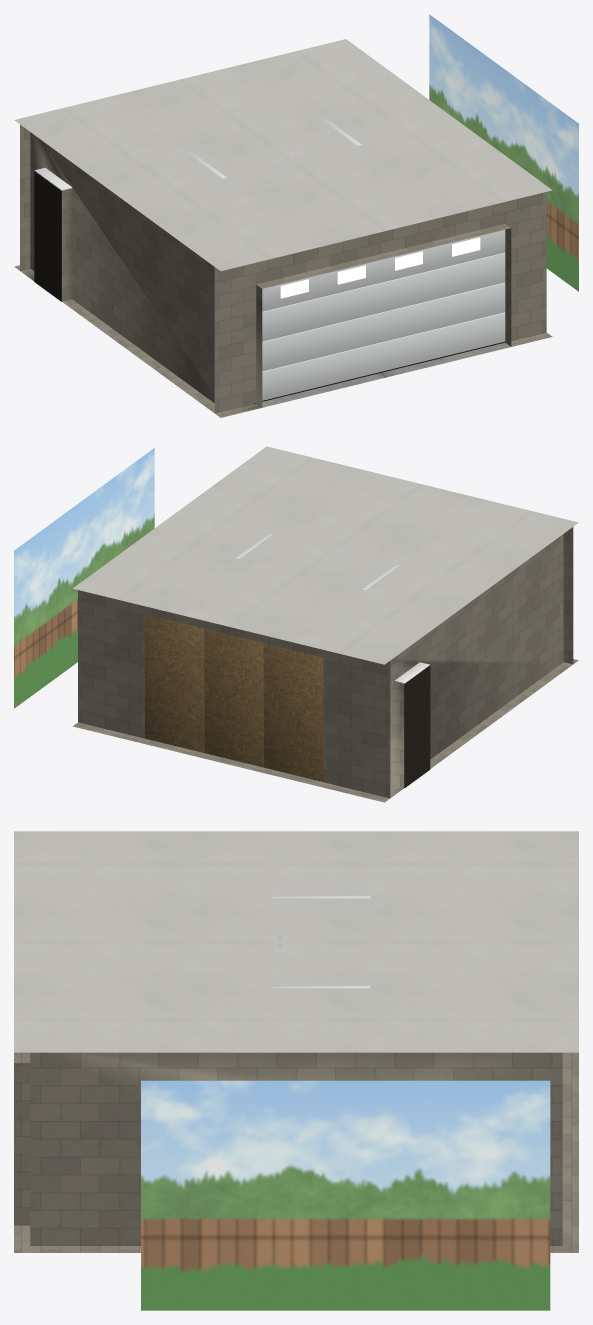
Rendered from garage.glb.
3 renders of one model, top to bottom at view 1: azimuth 30°, elevation 25°; view 2: azimuth 150°, elevation 25°; view 3: azimuth 270°, elevation 25°, orthographic. The views are drawn at different scales.
Parts seen in each view (by area): view 1: Ceiling, Walls, GarageDoor, OutsideView, HouseDoorFrame, Floor; view 2: Ceiling, Walls, OSBWall, OutsideView, HouseDoorFrame; view 3: Ceiling, OutsideView, Walls.
Part boxes in pixels (x1=…): Ceiling: x1=14, y1=39, x2=552, y2=271; Walls: x1=14, y1=124, x2=552, y2=417; GarageDoor: x1=253, y1=157, x2=505, y2=403; OutsideView: x1=429, y1=14, x2=578, y2=291; HouseDoorFrame: x1=34, y1=167, x2=72, y2=301; Floor: x1=262, y1=342, x2=510, y2=407; Ceiling: x1=73, y1=446, x2=578, y2=664; Walls: x1=73, y1=527, x2=578, y2=802; OSBWall: x1=145, y1=614, x2=323, y2=781; OutsideView: x1=14, y1=448, x2=154, y2=708; HouseDoorFrame: x1=394, y1=662, x2=430, y2=788; Ceiling: x1=14, y1=831, x2=578, y2=1052; OutsideView: x1=141, y1=1080, x2=550, y2=1310; Walls: x1=14, y1=1052, x2=578, y2=1252.
Bounding box in the file's own units: 7.81 × 3.1 × 6.9.
26 materials, 6 textured.
